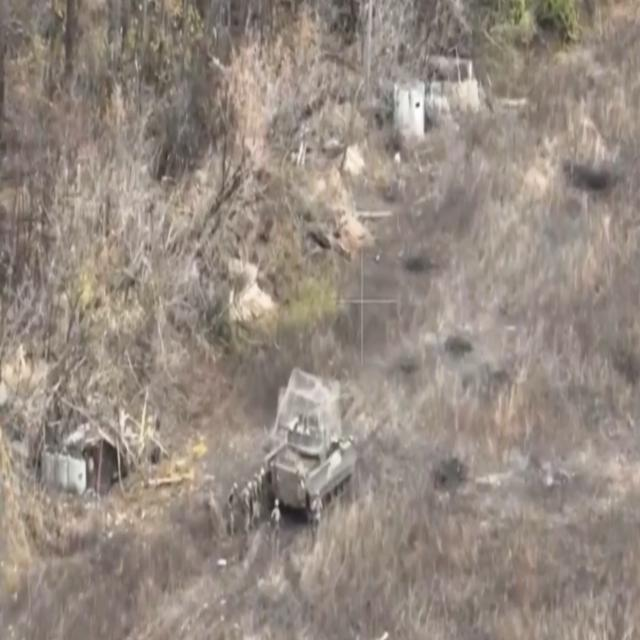infantry: (226, 481, 238, 534), (270, 494, 282, 546), (312, 488, 324, 535), (242, 483, 252, 534), (258, 466, 266, 514), (251, 471, 258, 521)
vehicle: (265, 367, 358, 523)
